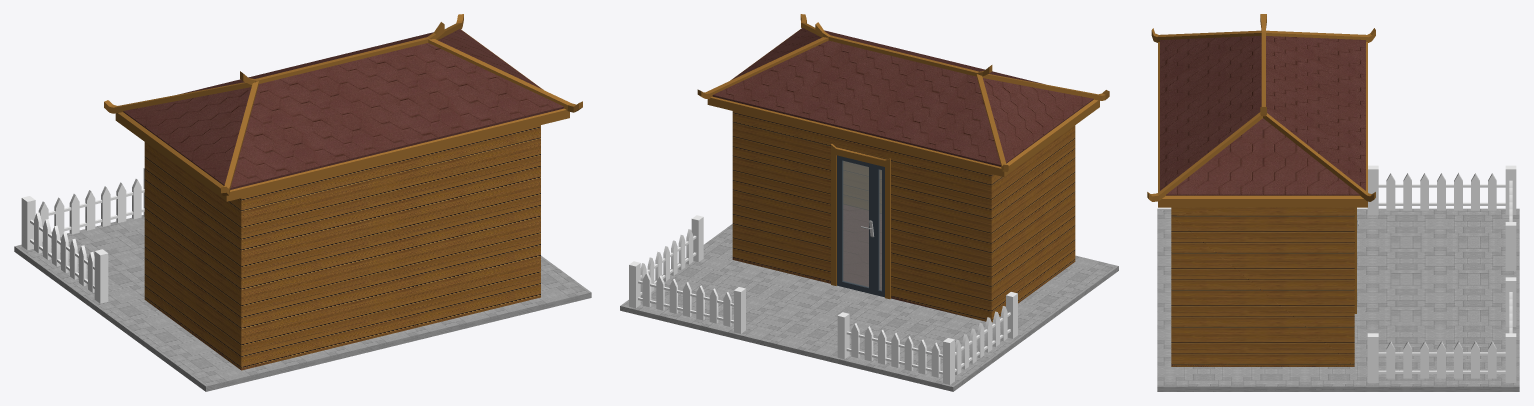
3 renders of one model, left to right at view 1: azimuth 30°, elevation 25°; view 2: azimuth 150°, elevation 25°; view 3: azimuth 270°, elevation 25°, orthographic. The views are drawn at different scales.
Parts seen in each view (by area): view 1: Box766, 对象691, Box765, 图形058, Box767; view 2: Box766, 对象691, Box765, Box767, 图形058, 对象688, 对象692, 图形055, 图形056, 图形057; view 3: Box765, 对象691, Box766, Box767, 图形058.
Boxes of the visible parts, x1=… form: Box766: x1=144, y1=125, x2=540, y2=370; 对象691: x1=123, y1=29, x2=563, y2=189; Box765: x1=14, y1=215, x2=591, y2=391; 图形058: x1=104, y1=14, x2=582, y2=201; Box767: x1=21, y1=168, x2=144, y2=303; Box766: x1=732, y1=111, x2=1075, y2=322; 对象691: x1=712, y1=28, x2=1093, y2=166; Box765: x1=620, y1=224, x2=1118, y2=391; Box767: x1=629, y1=215, x2=1017, y2=384; 图形058: x1=697, y1=14, x2=1109, y2=176; 对象688: x1=842, y1=161, x2=868, y2=287; 对象692: x1=732, y1=205, x2=1075, y2=321; 图形055: x1=831, y1=144, x2=890, y2=299; 图形056: x1=837, y1=155, x2=873, y2=294; 图形057: x1=874, y1=164, x2=884, y2=297; Box765: x1=1157, y1=208, x2=1519, y2=391; 对象691: x1=1160, y1=36, x2=1365, y2=195; Box766: x1=1171, y1=207, x2=1354, y2=366; Box767: x1=1367, y1=165, x2=1516, y2=382; 图形058: x1=1147, y1=14, x2=1375, y2=207.
Bounding box in the file's own units: 26.59 × 16.88 × 23.5.
Materials: 8 (3 with a texture image).
